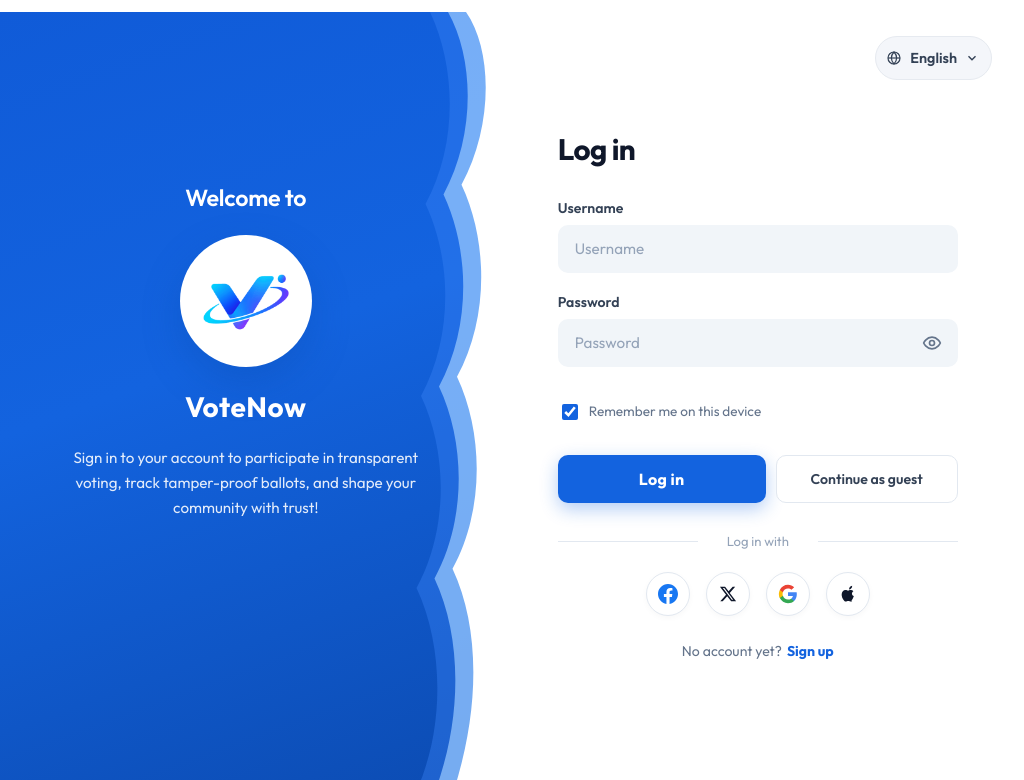
AuthChrome › 登录页把语言放在右上角，访客按钮放在登录右边
Expected: the text "Sign in to your account to participate in transparent voting, track tamper-proof ballots, and shape your community with " is shown, [73, 448, 418, 517]
Expected: the element with class "auth-actions" is shown, [558, 455, 958, 503]
Click the button named "Language" at x=934, y=58, box [875, 36, 992, 80]
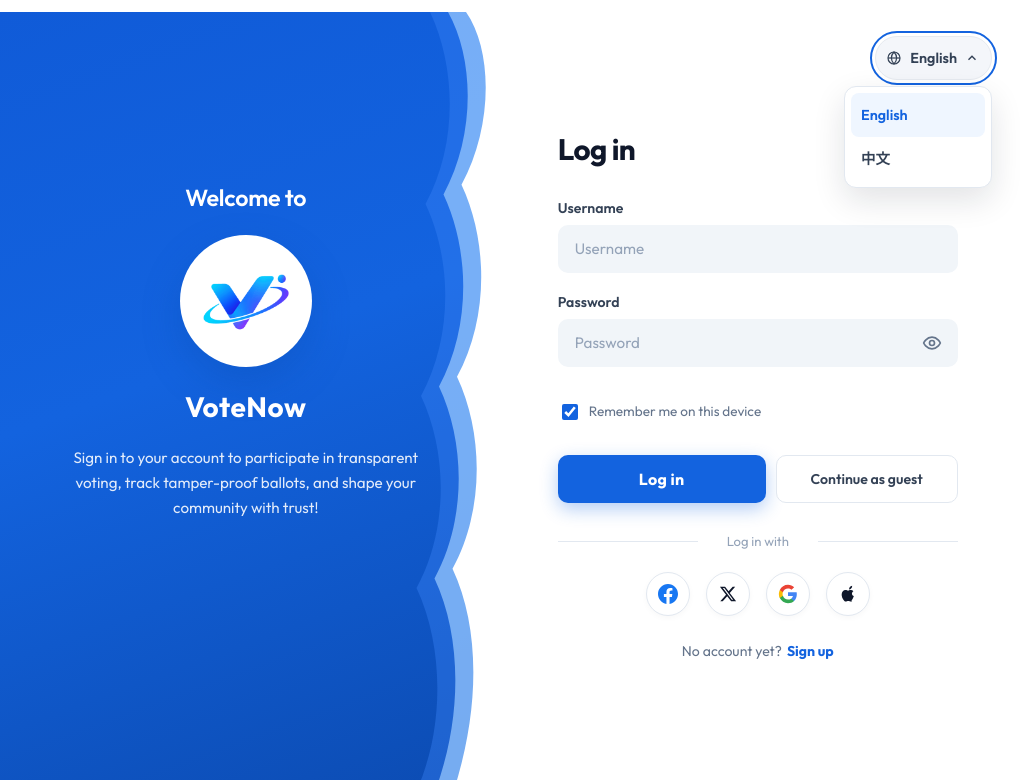
Click the option "中文" at x=918, y=159, box [851, 137, 985, 181]
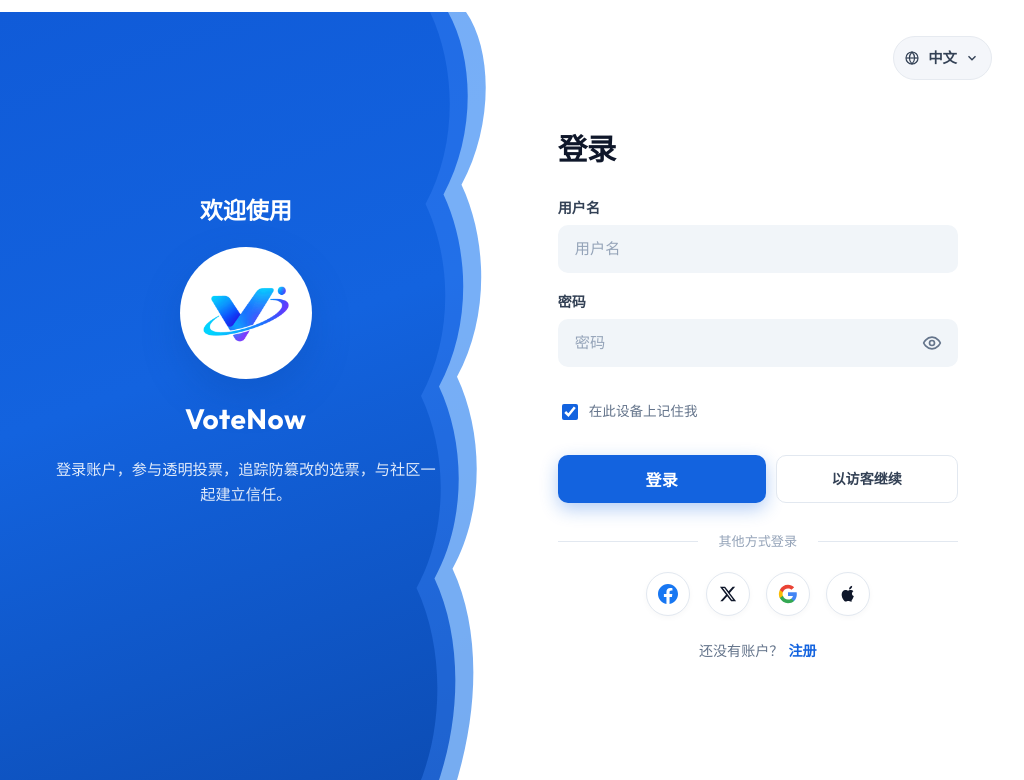
Expected: the list is gone
Expected: the button named "语言" reads "中文", [893, 36, 992, 80]
Expected: the text "登录账户，参与透明投票，追踪防篡改的选票，与社区一起建立信任。" is shown, [56, 457, 436, 507]
